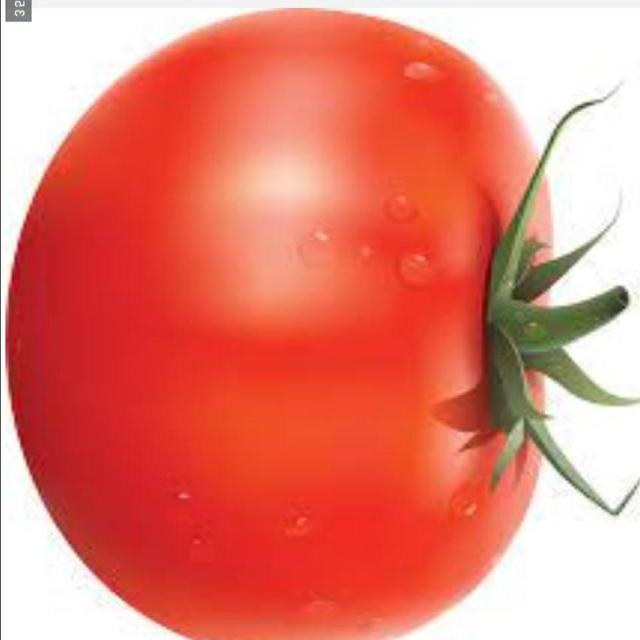Healthy Fruit: (1, 0, 389, 427)
